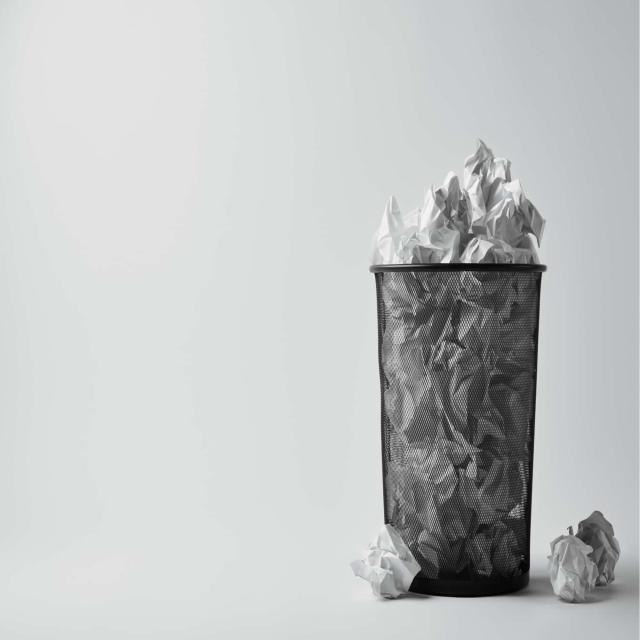PaperCardboard: (369, 144, 548, 266), (548, 510, 620, 598)
